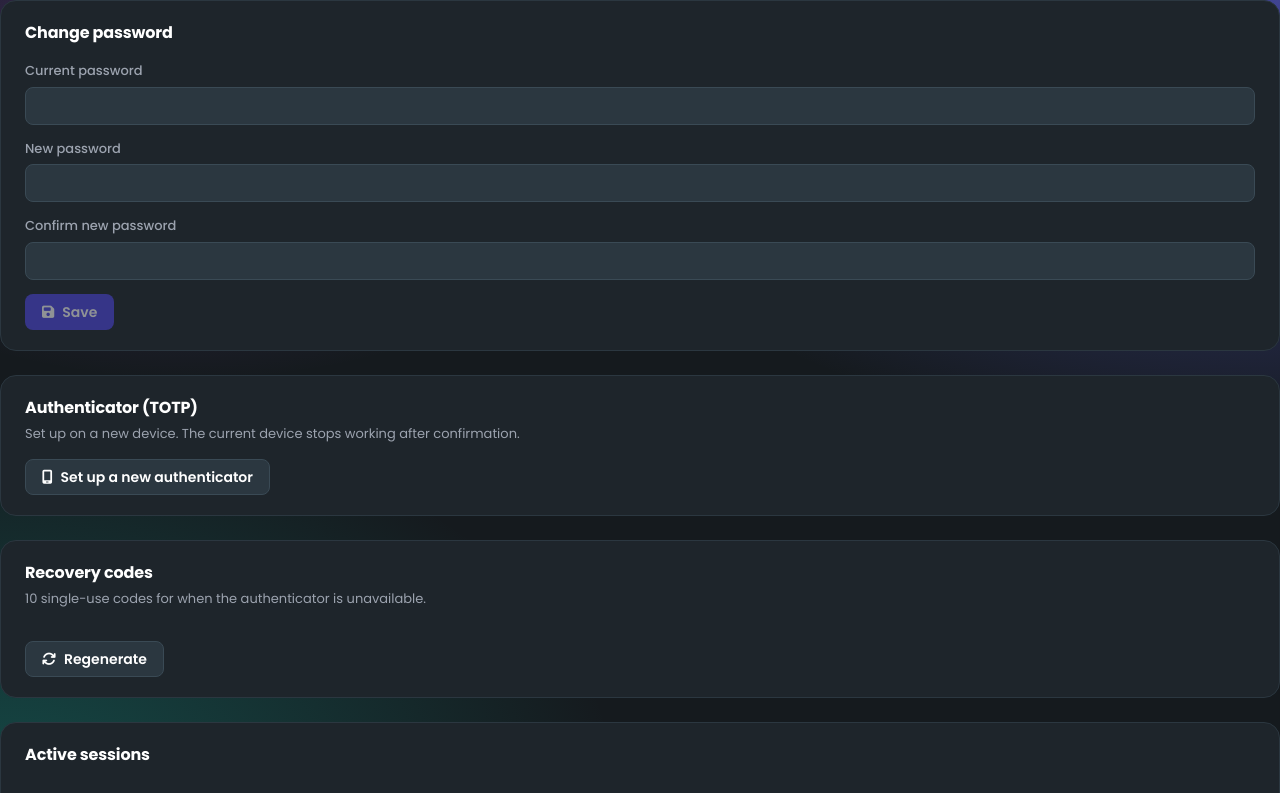
Test: Settings > Security › regenerates recovery codes after a fresh TOTP and shows the amber shown-once warning
Click the button "Regenerate" at (94, 658), box [25, 640, 164, 676]
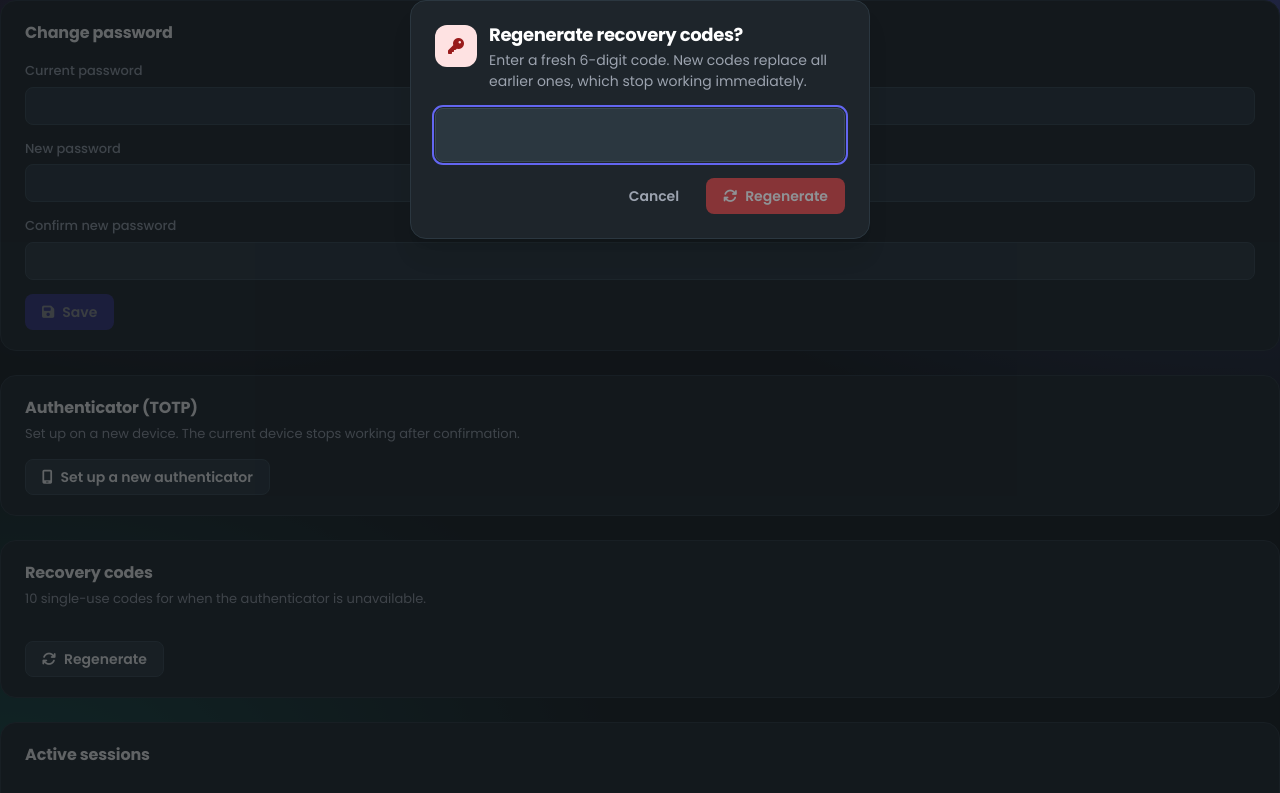
Type "111111" into the field named "Two-factor code" at (640, 135), box [435, 108, 845, 162]
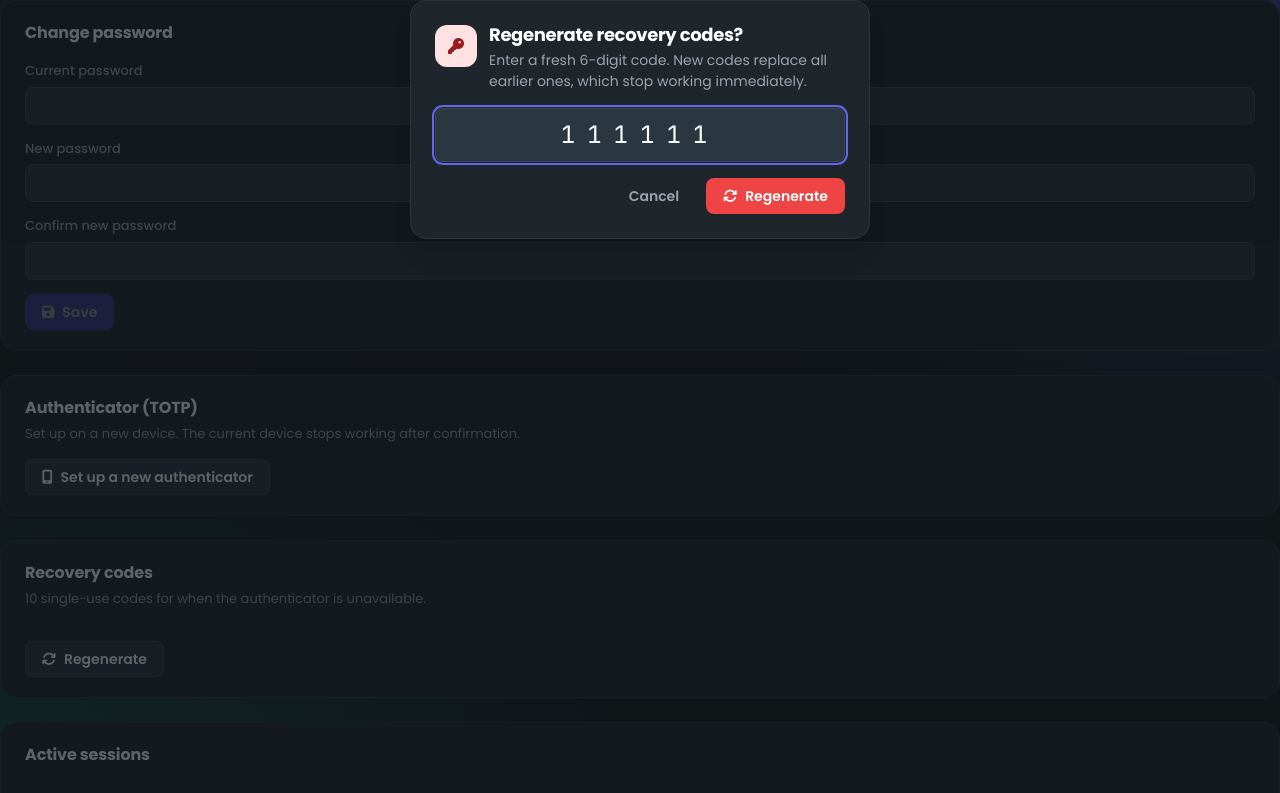
Click the button "Regenerate" at (776, 196), box [706, 178, 845, 214]
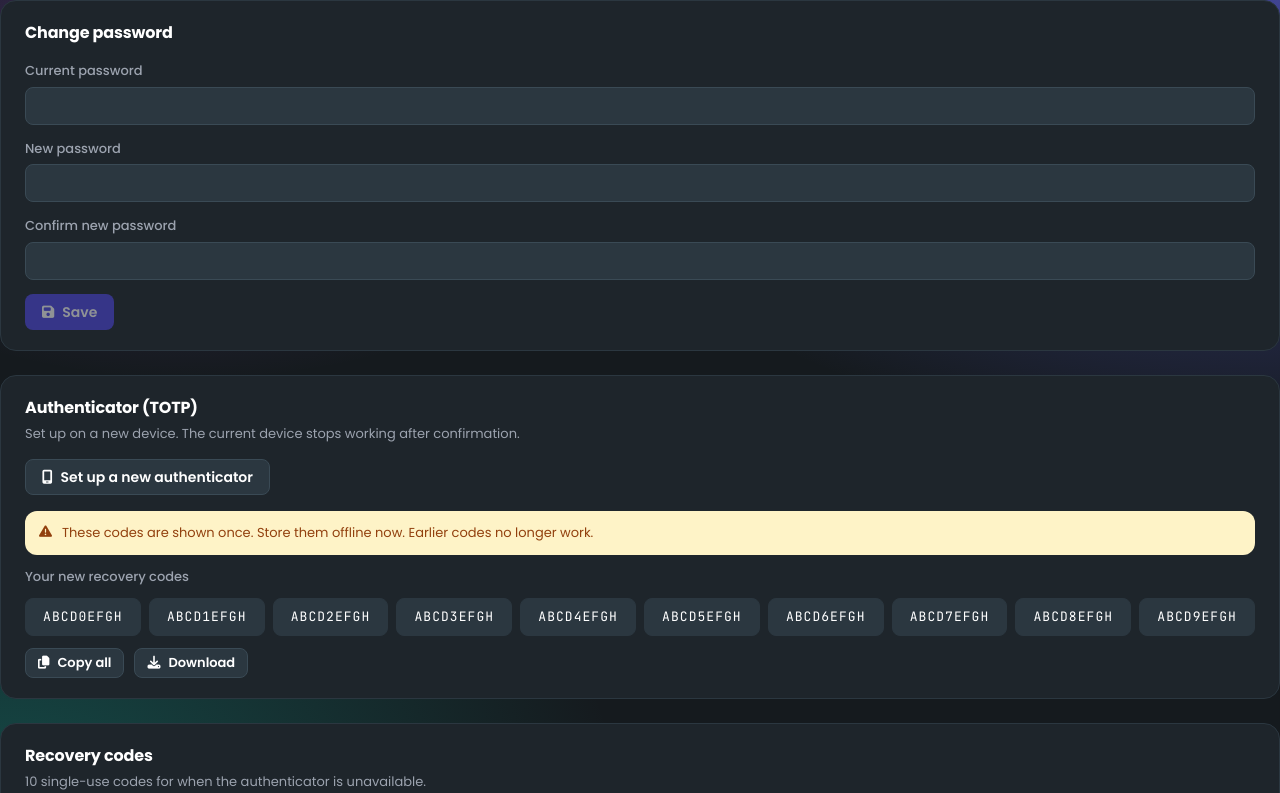
Now the text "These codes are shown once. Store them offline now. Earlier codes no longer work." is shown, box [62, 523, 593, 542]
Now the dialog is gone
Now the text "ABCD0EFGH" is shown, box [25, 598, 141, 636]
